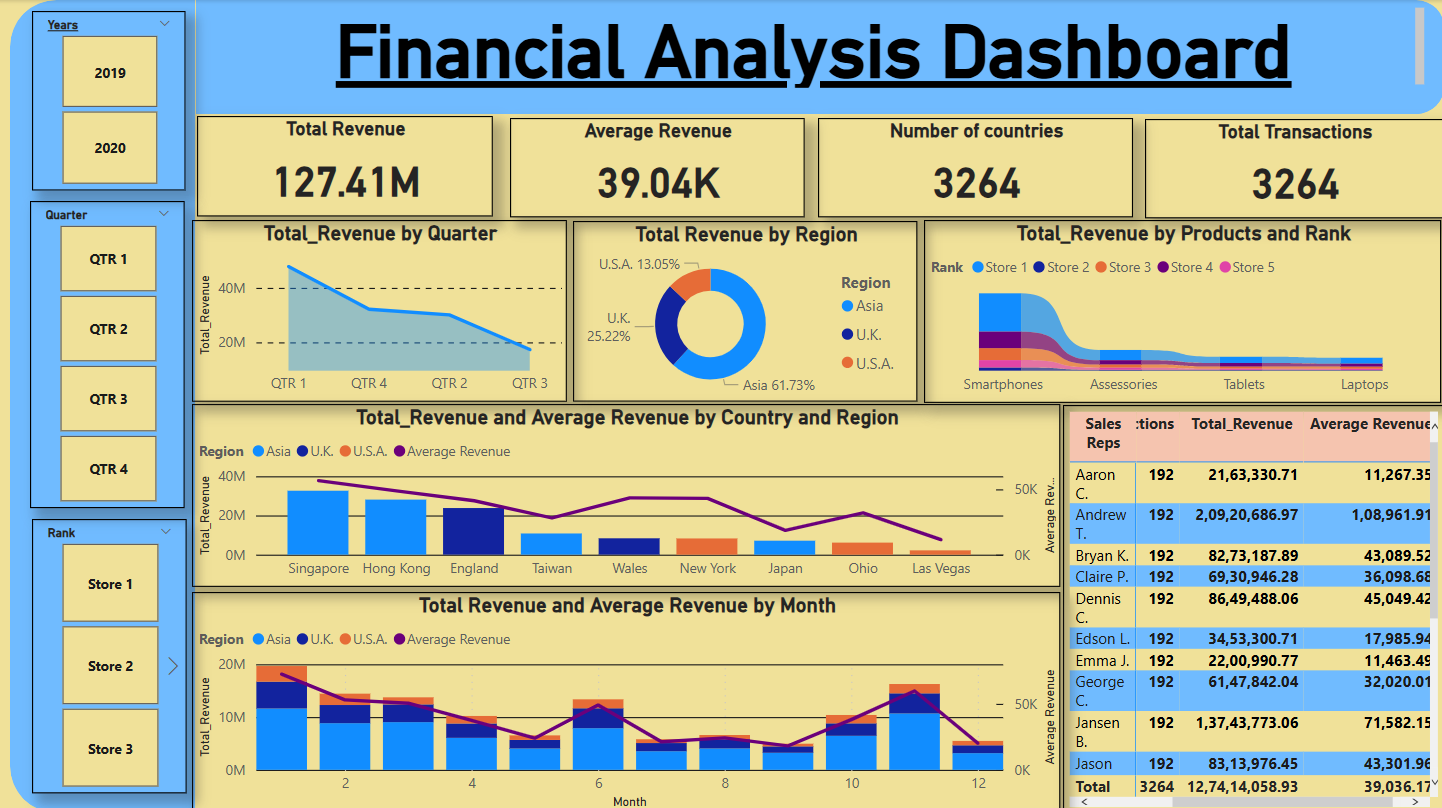

The page's visual inventory and layout, read from the dashboard file:
{"tool":"powerbi","page":{"name":"Page 1","canvas":[1280,720],"ordinal":0},"visuals":[{"type":"shape","box":[9.7,0,164.4,719.8],"z":0},{"type":"shape","box":[174.1,0,1105.9,101.2],"z":1},{"type":"card","title":"Total Revenue","fields":{"Values":["Table1.Total_Revenue"]},"box":[175.1,103.1,261.6,88.5],"z":2},{"type":"card","title":"Average Revenue","fields":{"Values":["Table1.Average Revenue"]},"box":[452.3,104.1,260.7,87.5],"z":3},{"type":"card","title":"Number of countries","fields":{"Values":["Table1.Total Country"]},"box":[725.6,104.1,279.1,87.5],"z":4},{"type":"card","title":"Total Transactions","fields":{"Values":["Table1.Total Transactions"]},"box":[1014.5,105,264.6,87.5],"z":5},{"type":"donutChart","title":"Total Revenue by Region","fields":{"Y":["Table1.Total_Revenue"],"Category":["Table1.Region"]},"box":[508.7,195.5,305.4,159.5],"z":6},{"type":"lineStackedColumnComboChart","fields":{"Category":["Table1.Country"],"Y":["Table1.Total_Revenue"],"Y2":["Table1.Average Revenue"],"Series":["Table1.Region"]},"box":[171.2,357.9,769.4,162.4],"z":7},{"type":"areaChart","fields":{"Category":["Table1.Quarter"],"Y":["Table1.Total_Revenue"]},"box":[171.2,194.5,331.7,161.5],"z":9},{"type":"ribbonChart","fields":{"Category":["Table1.Products"],"Y":["Table1.Total_Revenue"],"Series":["Table1.Rank"]},"box":[819,194.5,458.1,162.4],"z":10},{"type":"pivotTable","fields":{"Rows":["Table1.Sales Reps"],"Values":["Table1.Total Transactions","Table1.Total_Revenue","Table1.Average Revenue"]},"box":[942.5,358.9,337.5,359.9],"z":11},{"type":"lineStackedColumnComboChart","title":"Total Revenue and Average Revenue by Month","fields":{"Y2":["Table1.Average Revenue"],"Series":["Table1.Region"],"Category":["Table1.Month"],"Y":["Table1.Total_Revenue"]},"box":[171.2,524.5,769.4,195.5],"z":12},{"type":"slicer","fields":{"Values":["Table1.Years"]},"box":[29.2,9.7,136.2,158.5],"z":13},{"type":"slicer","fields":{"Values":["Table1.Quarter"]},"box":[27.2,178,137.1,272.3],"z":14},{"type":"slicer","fields":{"Values":["Table1.Rank"]},"box":[29.2,460.1,137.1,243.2],"z":15},{"type":"textbox","box":[183.8,1.9,1082.6,80.7],"z":16}]}

Visuals, with their boxes in screenshot pixels (x1, y1, x2, y2), scaled from the page's 1280x720 canvas onto the 1442x808 screenshot:
shape: crop(11, 0, 196, 807)
shape: crop(196, 0, 1441, 114)
"Total Revenue" card: crop(197, 116, 492, 215)
"Average Revenue" card: crop(510, 117, 803, 215)
"Number of countries" card: crop(817, 117, 1132, 215)
"Total Transactions" card: crop(1143, 118, 1441, 216)
"Total Revenue by Region" donutChart: crop(573, 219, 917, 398)
lineStackedColumnComboChart - Table1.Country x Table1.Total_Revenue: crop(193, 402, 1060, 584)
areaChart - Table1.Quarter x Table1.Total_Revenue: crop(193, 218, 567, 400)
ribbonChart - Table1.Products x Table1.Total_Revenue: crop(923, 218, 1439, 401)
pivotTable - Table1.Sales Reps x Table1.Total Transactions: crop(1062, 403, 1441, 807)
"Total Revenue and Average Revenue by Month" lineStackedColumnComboChart: crop(193, 589, 1060, 807)
slicer - Table1.Years: crop(33, 11, 186, 189)
slicer - Table1.Quarter: crop(31, 200, 185, 505)
slicer - Table1.Rank: crop(33, 516, 187, 789)
textbox: crop(207, 2, 1427, 93)
